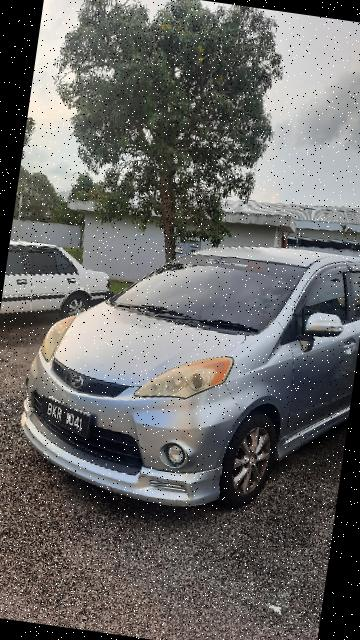License_Plate: (33, 399, 99, 442)
car: (11, 210, 360, 537), (4, 228, 122, 337)
